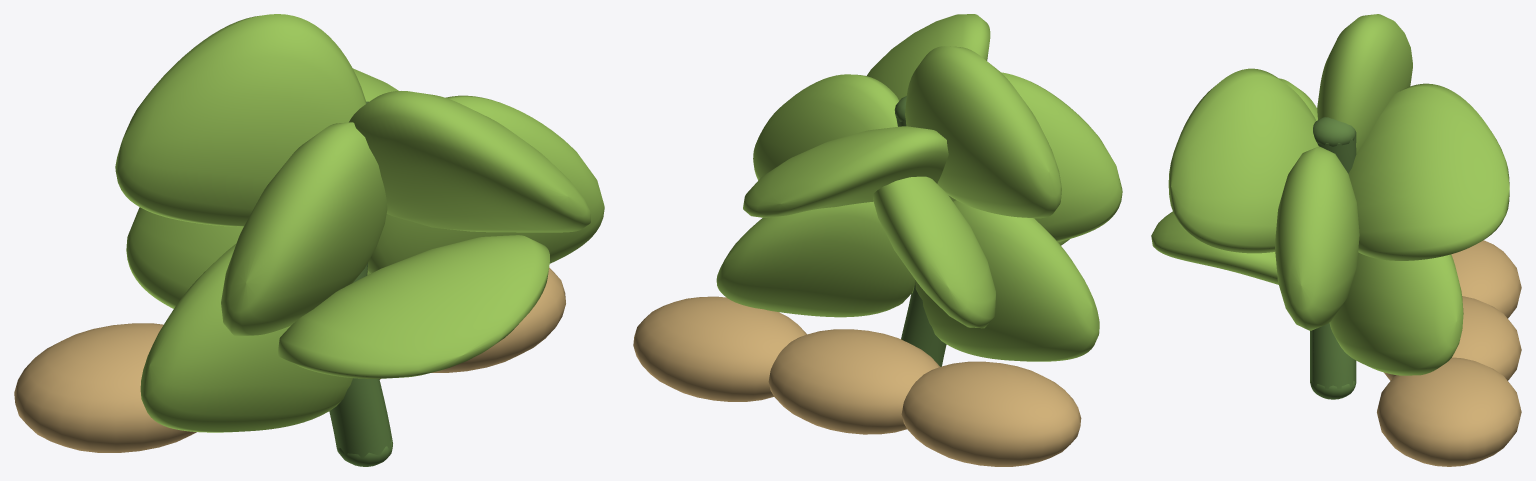
Rendered from crop_3_stage_3.fbx.
3 renders of one model, left to right at view 1: azimuth 30°, elevation 25°; view 2: azimuth 150°, elevation 25°; view 3: azimuth 270°, elevation 25°, orthographic. The views are drawn at different scales.
Visible parts, largest first — view 1: crop_3_stage_3; view 2: crop_3_stage_3; view 3: crop_3_stage_3.
Part boxes in pixels (box(x1,y1,x2,y2)): crop_3_stage_3: box(14, 14, 604, 466); crop_3_stage_3: box(633, 14, 1122, 466); crop_3_stage_3: box(1151, 14, 1521, 466).
Bounding box in the file's own units: 0.62 × 0.5 × 0.48.
Materials: 1 (1 with a texture image).
